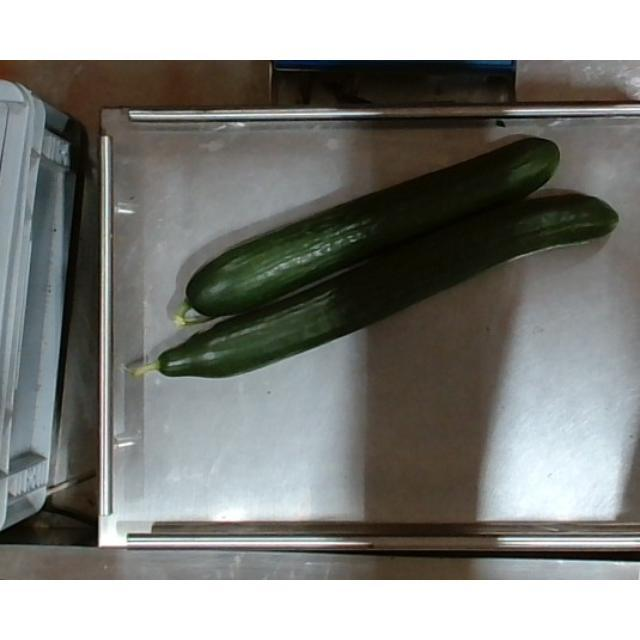cucumber: (138, 188, 620, 382), (173, 136, 561, 332)
